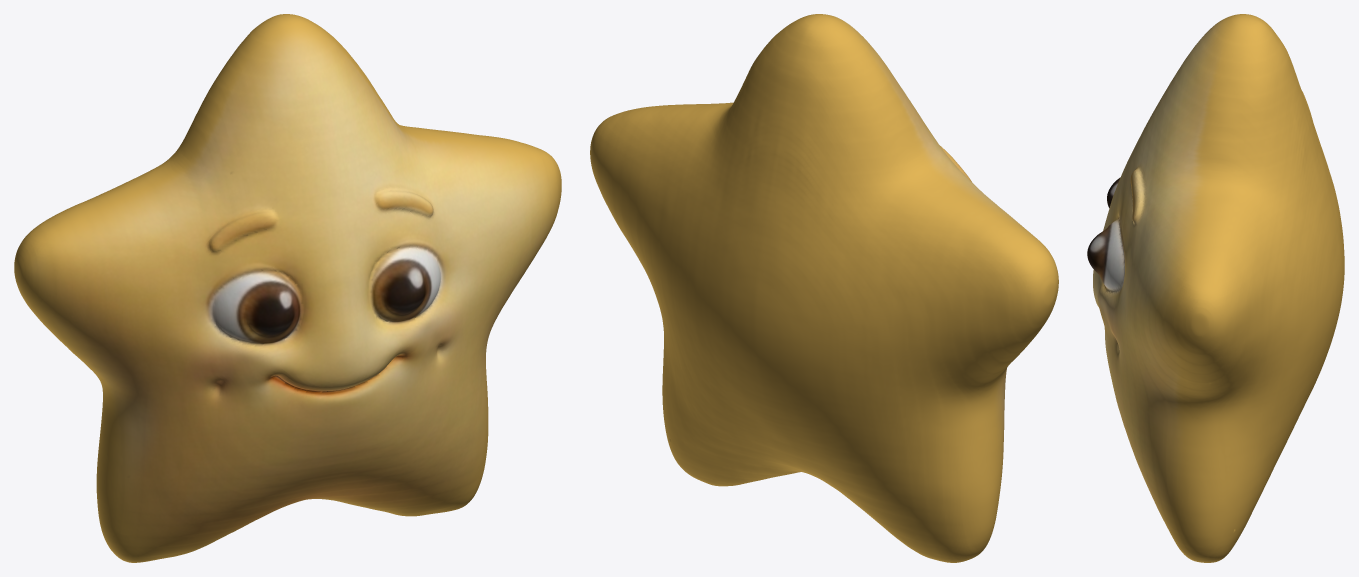
File: star-hop-blink.glb
3 renders of one model, left to right at view 1: azimuth 30°, elevation 25°; view 2: azimuth 150°, elevation 25°; view 3: azimuth 270°, elevation 25°, orthographic. The views are drawn at different scales.
Parts seen in each view (by area): view 1: StarMascot_Baked; view 2: StarMascot_Baked; view 3: StarMascot_Baked.
Part boxes in pixels (x1,y1,x2,y2): StarMascot_Baked: (14,14,561,562); StarMascot_Baked: (590,14,1058,562); StarMascot_Baked: (1087,14,1344,562).
Bounding box in the file's own units: 1.97 × 1.92 × 0.9332.
Materials: 1 (1 with a texture image).
